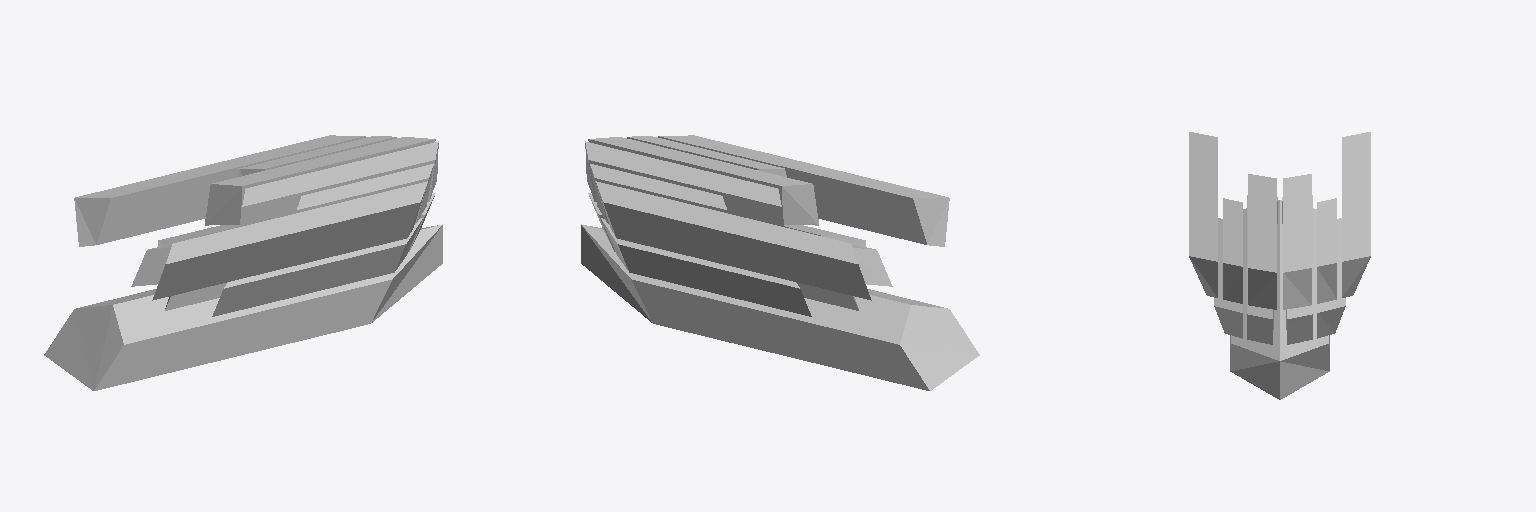
Rendered from ShipDesignBatV4.obj.
3 renders of one model, left to right at view 1: azimuth 30°, elevation 25°; view 2: azimuth 150°, elevation 25°; view 3: azimuth 270°, elevation 25°, orthographic.
Visible parts, largest first — view 1: Emission_Core_Cube.005; view 2: Emission_Core_Cube.005; view 3: Emission_Core_Cube.005.
Boxes of the visible parts, <box> form: Emission_Core_Cube.005: <box>44,135,442,390</box>; Emission_Core_Cube.005: <box>581,135,979,390</box>; Emission_Core_Cube.005: <box>1189,132,1370,399</box>.
Size of the model in its own units: 9.64 by 3.52 by 4.07.